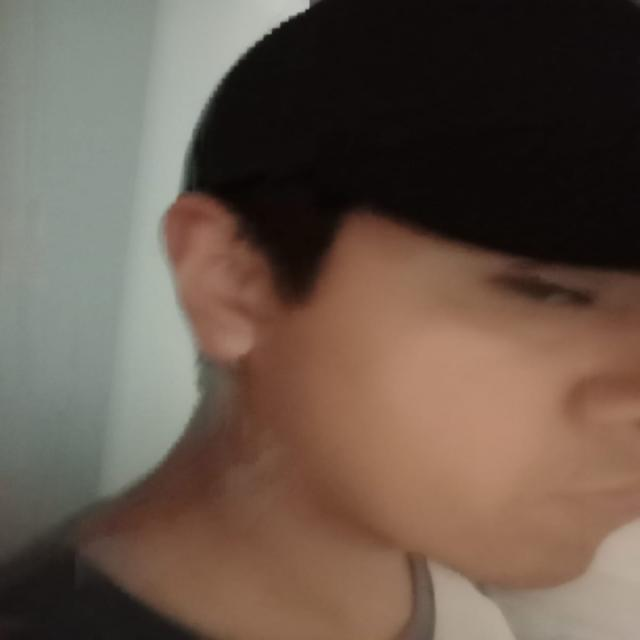ear: (163, 192, 275, 364)
